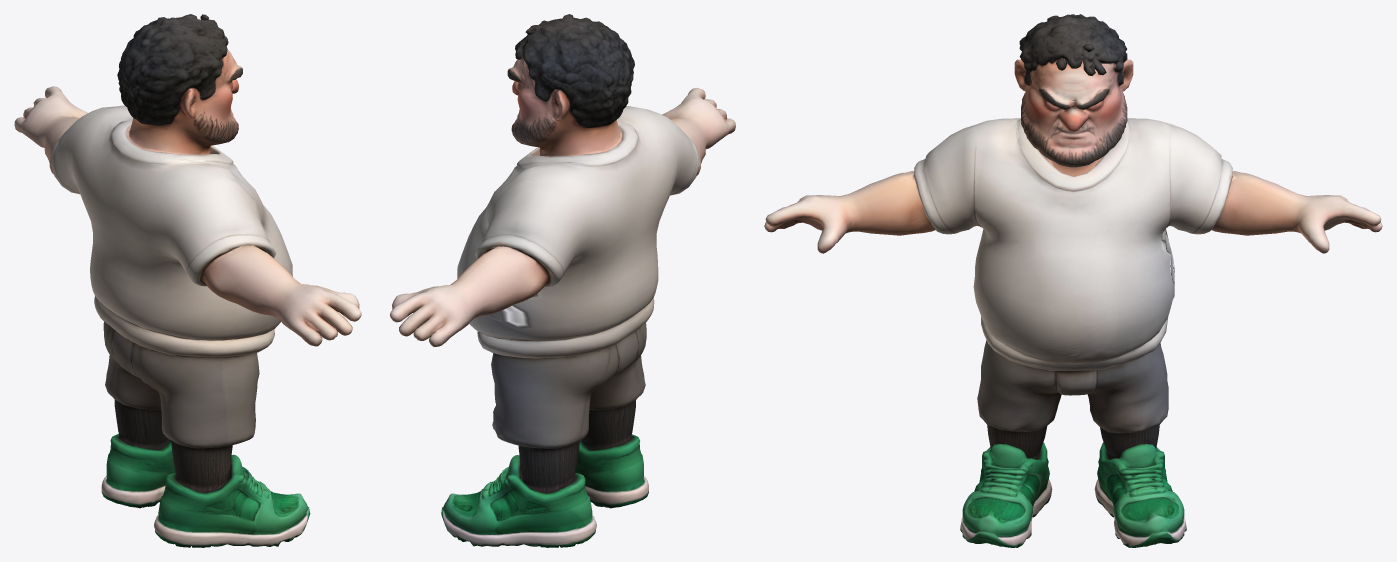
3 views of the same model, side by side, from view 1: azimuth 30°, elevation 25°; view 2: azimuth 150°, elevation 25°; view 3: azimuth 270°, elevation 25° (orthographic).
Parts seen in each view (by area): view 1: tripo_node_6525cac5; view 2: tripo_node_6525cac5; view 3: tripo_node_6525cac5.
Boxes of the visible parts, x1=… form: tripo_node_6525cac5: x1=14, y1=14, x2=361, y2=547; tripo_node_6525cac5: x1=390, y1=14, x2=735, y2=547; tripo_node_6525cac5: x1=764, y1=14, x2=1382, y2=547.
Size of the model in its own units: 32.49 by 87.67 by 100.
1 material, 1 textured.
